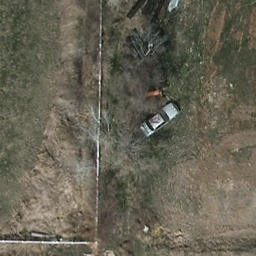car: (137, 101, 180, 138)
